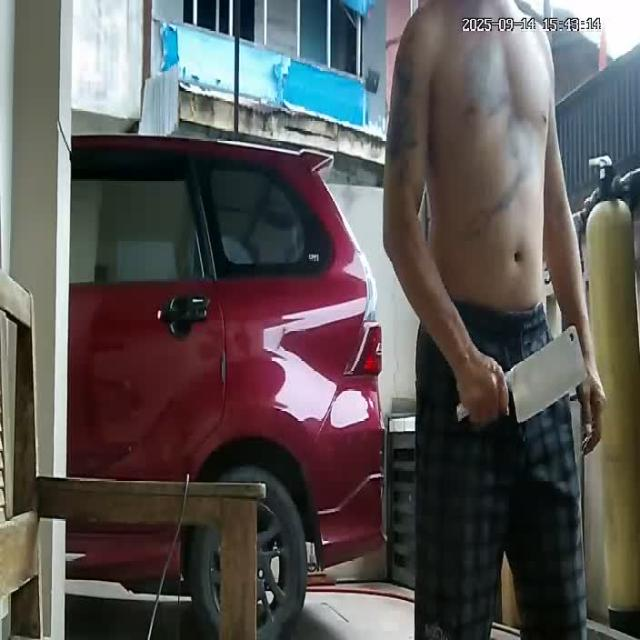senjata_tajam: (507, 322, 592, 428)
